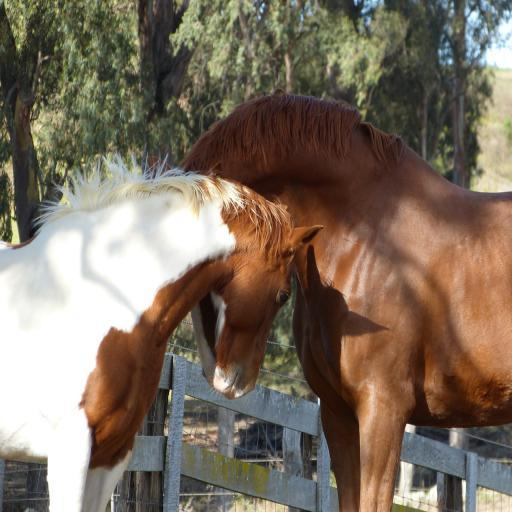Horse: (146, 81, 511, 511), (0, 143, 323, 512)
